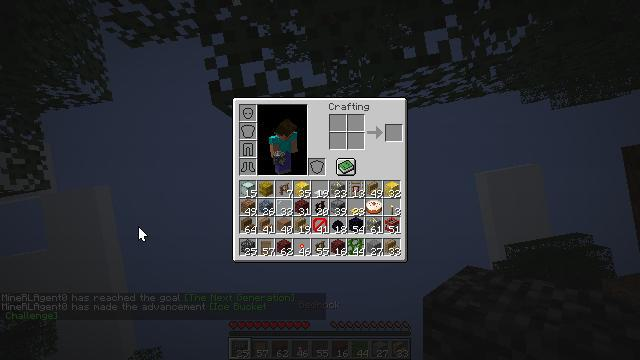cursor: (226, 138, 242, 148)
